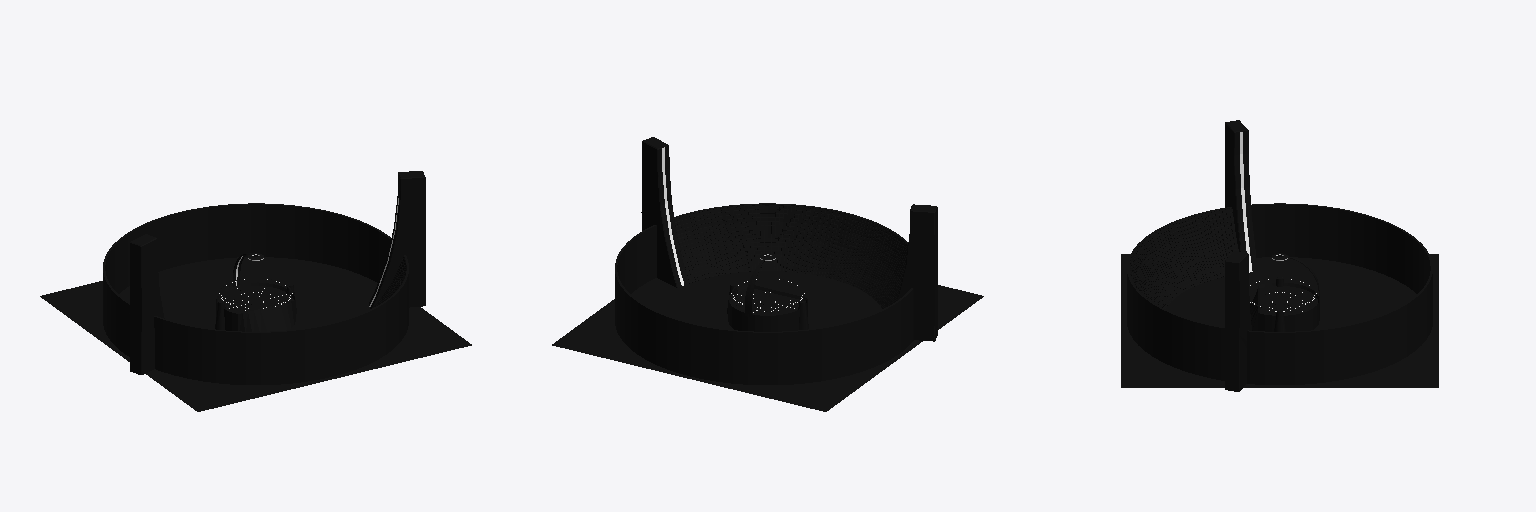
The model's file is world_2015-12-30.obj.
The picture shows the model from 3 angles: view 1: azimuth 30°, elevation 25°; view 2: azimuth 150°, elevation 25°; view 3: azimuth 270°, elevation 25°; orthographic projection.
Visible parts, largest first — view 1: WALL, GROUND, Audience_tower_east, Audience_tower_west, Playable_ground, Playable_ground_edit; view 2: WALL, GROUND, Audience, Audience_lattice, Audience_tower_west, Audience_tower_east, Playable_ground, Playable_ground_edit; view 3: WALL, GROUND, Audience, Audience_tower_east, Audience_tower_west, Audience_lattice, Playable_ground, Playable_ground_edit.
Boxes of the visible parts, x1=… form: WALL: x1=103, y1=203, x2=408, y2=384; GROUND: x1=40, y1=257, x2=471, y2=411; Audience_tower_east: x1=369, y1=171, x2=425, y2=308; Audience_tower_west: x1=129, y1=234, x2=164, y2=374; Playable_ground: x1=216, y1=282, x2=295, y2=331; Playable_ground_edit: x1=218, y1=286, x2=293, y2=313; WALL: x1=615, y1=203, x2=913, y2=384; GROUND: x1=552, y1=271, x2=983, y2=411; Audience: x1=675, y1=205, x2=907, y2=308; Audience_lattice: x1=674, y1=205, x2=907, y2=308; Audience_tower_west: x1=896, y1=204, x2=937, y2=341; Audience_tower_east: x1=641, y1=137, x2=688, y2=287; Playable_ground: x1=728, y1=285, x2=807, y2=331; Playable_ground_edit: x1=730, y1=289, x2=805, y2=315; WALL: x1=1127, y1=203, x2=1432, y2=384; GROUND: x1=1121, y1=254, x2=1438, y2=387; Audience: x1=1130, y1=209, x2=1238, y2=308; Audience_tower_east: x1=1225, y1=251, x2=1251, y2=391; Audience_tower_west: x1=1225, y1=120, x2=1257, y2=271; Audience_lattice: x1=1129, y1=208, x2=1236, y2=308; Playable_ground: x1=1250, y1=283, x2=1319, y2=331; Playable_ground_edit: x1=1260, y1=286, x2=1317, y2=315.
Bounding box in the file's own units: 2136 × 900 × 2000.